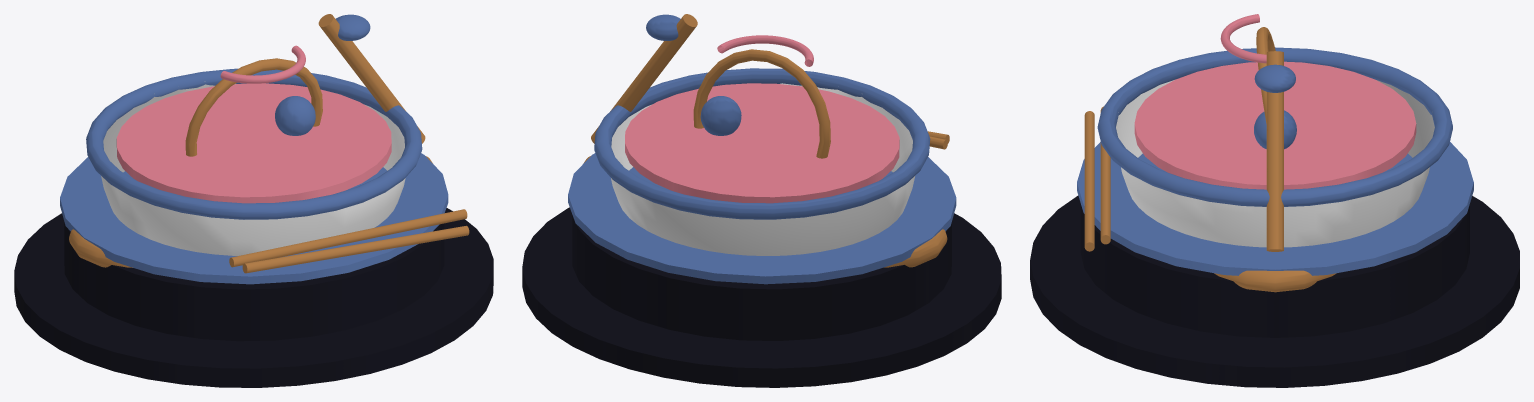
File: 0322_揭秘食物图鉴_中国荷斯坦奶牛.glb
3 views of the same model, side by side, from view 1: azimuth 30°, elevation 25°; view 2: azimuth 150°, elevation 25°; view 3: azimuth 270°, elevation 25° (orthographic). The views are drawn at different scales.
Parts seen in each view (by area): view 1: card_0322; view 2: card_0322; view 3: card_0322.
Boxes of the visible parts, x1,y1,x2,y2 form: card_0322: (14, 14, 493, 387); card_0322: (522, 14, 1001, 387); card_0322: (1030, 14, 1519, 387).
Size of the model in its own units: 1.72 by 1 by 1.65.
